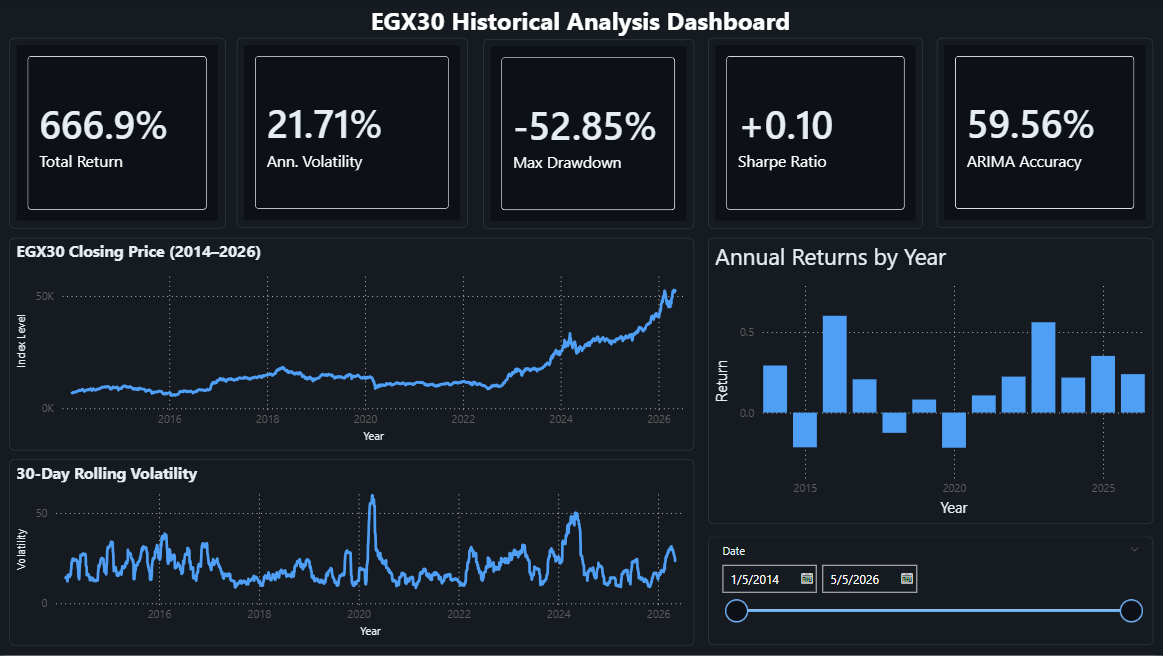

Layout of this report page (visuals, bound fields, positions):
{"tool":"powerbi","page":{"name":"EGX30 Dashboard","canvas":[1280,720],"ordinal":0},"visuals":[{"type":"cardVisual","fields":{"Data":["EGX30_cleaned.measure KPI_TotalReturn"]},"box":[12.3,42.5,237.4,209.9],"z":0},{"type":"cardVisual","fields":{"Data":["EGX30_cleaned.measure KPI_Drawdown"]},"box":[532.4,43.9,231.9,208.6],"z":1000},{"type":"cardVisual","fields":{"Data":["EGX30_cleaned.measure KPI_Sharpe"]},"box":[779.4,42.5,236,209.9],"z":2000},{"type":"cardVisual","fields":{"Data":["EGX30_cleaned.measure KPI_Volatility"]},"box":[262.1,42.5,253.9,208.6],"z":3000},{"type":"cardVisual","fields":{"Data":["EGX30_cleaned.measure KPI_ARIMA"]},"box":[1030.5,42.5,237.4,208.6],"z":4000},{"type":"lineChart","title":"EGX30 Closing Price (2014–2026)","fields":{"Y":["Sum(EGX30_cleaned.Close)"],"Category":["EGX30_cleaned.Date.Variation.Date Hierarchy.Year","EGX30_cleaned.Date.Variation.Date Hierarchy.Quarter","EGX30_cleaned.Date.Variation.Date Hierarchy.Month","EGX30_cleaned.Date.Variation.Date Hierarchy.Day"]},"box":[12.3,262.1,752,233.3],"z":5000},{"type":"clusteredColumnChart","title":"Annual Returns by Year","fields":{"Y":["Sum(EGX30_cleaned.Return)"],"Category":["EGX30_cleaned.Year"]},"box":[779.4,262.1,488.5,314.2],"z":6000},{"type":"lineChart","title":"30-Day Rolling Volatility","fields":{"Y":["Sum(EGX30_cleaned.Vol_30)"],"Category":["EGX30_cleaned.Date.Variation.Date Hierarchy.Year","EGX30_cleaned.Date.Variation.Date Hierarchy.Quarter","EGX30_cleaned.Date.Variation.Date Hierarchy.Month","EGX30_cleaned.Date.Variation.Date Hierarchy.Day"]},"box":[12.3,505,752,204.5],"z":7000},{"type":"slicer","fields":{"Values":["EGX30_cleaned.Date"]},"box":[779.4,590.1,488.5,119.4],"z":8000},{"type":"textbox","box":[368.3,0,543.3,60],"z":9000}]}

Visuals, with their boxes in screenshot pixels (x1, y1, x2, y2), scaled from the page's 1280x720 canvas onto the 1163x656 screenshot:
cardVisual - EGX30_cleaned.measure KPI_TotalReturn: (11, 39, 227, 230)
cardVisual - EGX30_cleaned.measure KPI_Drawdown: (484, 40, 694, 230)
cardVisual - EGX30_cleaned.measure KPI_Sharpe: (708, 39, 923, 230)
cardVisual - EGX30_cleaned.measure KPI_Volatility: (238, 39, 469, 229)
cardVisual - EGX30_cleaned.measure KPI_ARIMA: (936, 39, 1152, 229)
"EGX30 Closing Price (2014–2026)" lineChart: (11, 239, 694, 451)
"Annual Returns by Year" clusteredColumnChart: (708, 239, 1152, 525)
"30-Day Rolling Volatility" lineChart: (11, 460, 694, 646)
slicer - EGX30_cleaned.Date: (708, 538, 1152, 646)
textbox: (335, 0, 828, 55)
